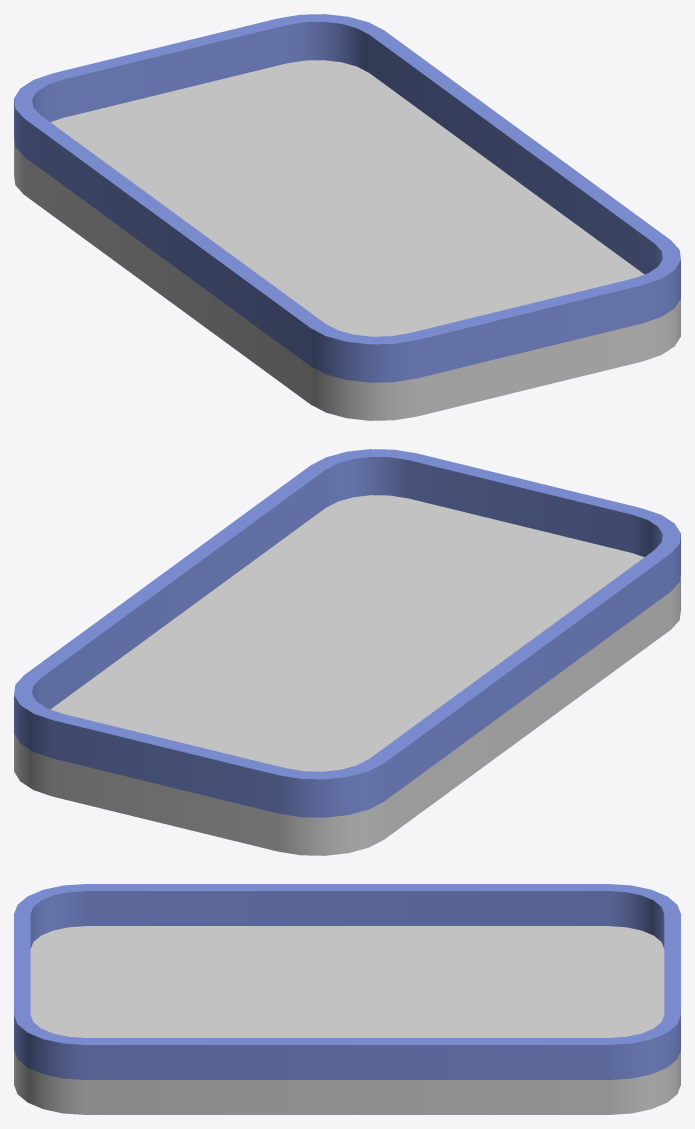
The model's file is PoolTable_02.02.fbx.
3 renders of one model, top to bottom at view 1: azimuth 30°, elevation 25°; view 2: azimuth 150°, elevation 25°; view 3: azimuth 270°, elevation 25°, orthographic. The views are drawn at different scales.
Parts seen in each view (by area): view 1: PoolTable_02_Base, PoolTable_02_Walls; view 2: PoolTable_02_Base, PoolTable_02_Walls; view 3: PoolTable_02_Base, PoolTable_02_Walls.
Boxes of the visible parts, <box> form: PoolTable_02_Base: <box>14,60,680,420</box>; PoolTable_02_Walls: <box>14,14,680,382</box>; PoolTable_02_Base: <box>14,495,680,855</box>; PoolTable_02_Walls: <box>14,449,680,817</box>; PoolTable_02_Base: <box>14,926,680,1114</box>; PoolTable_02_Walls: <box>14,884,680,1079</box>.
Bounding box in the file's own units: 395 × 80.21 × 693.
